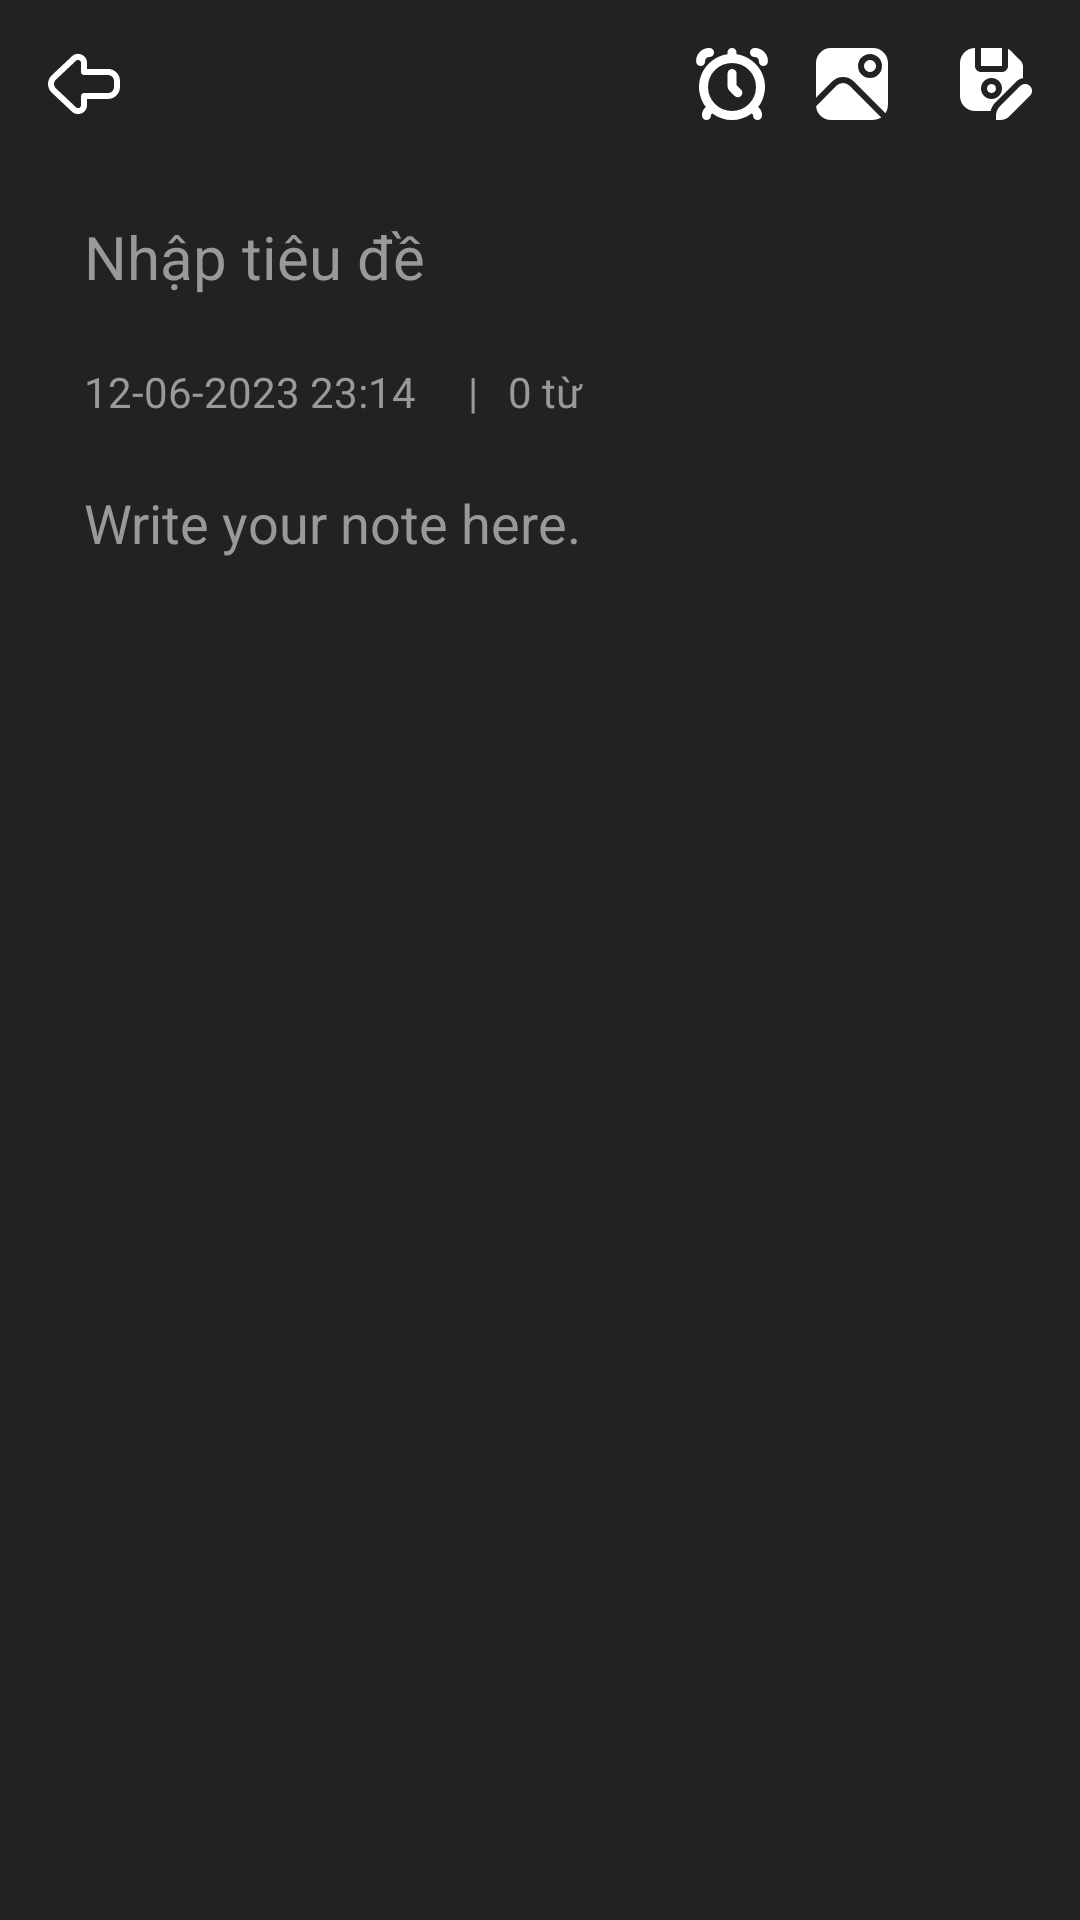

Named icons in this screenshot (1080 × 1920) and their centers, (x,y):
Insert Image: (852,84)
Quay lại: (84,83)
Remind Later: (732,84)
Save Note: (996,84)
